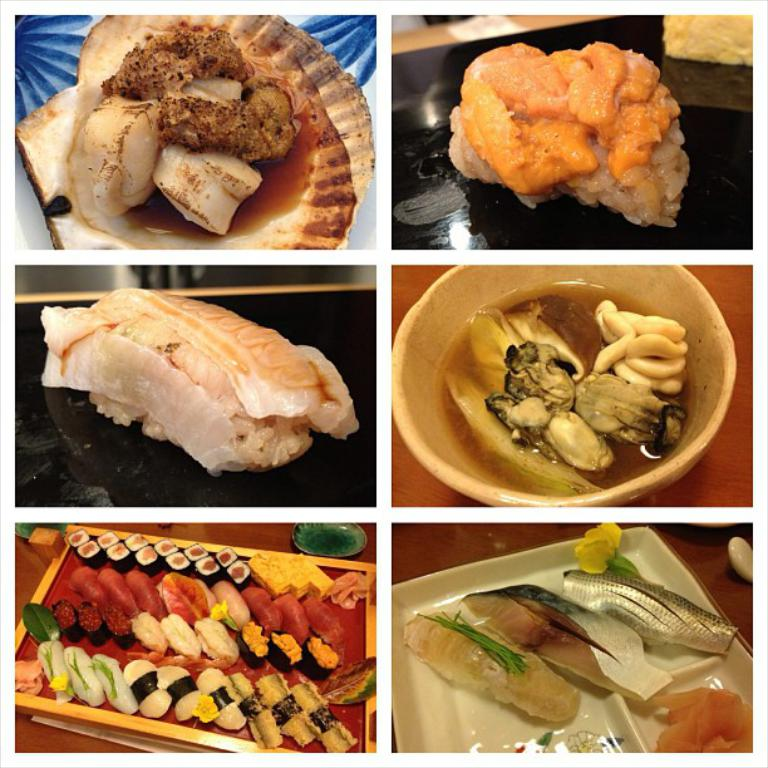sushi: (8, 535, 368, 759), (41, 289, 353, 478), (444, 34, 693, 215), (467, 581, 673, 693), (402, 610, 573, 723), (565, 560, 729, 656)
